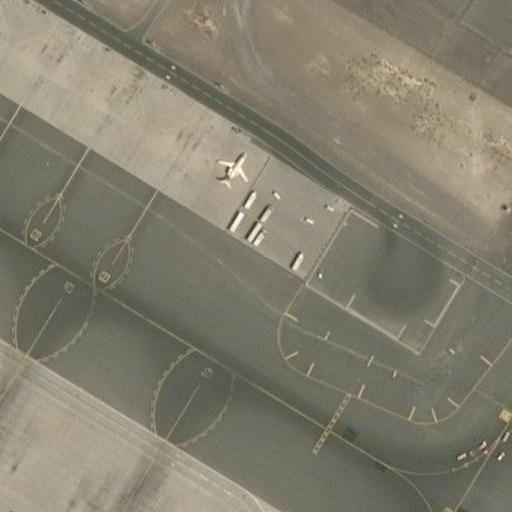Aircraft: (217, 150, 249, 189)
